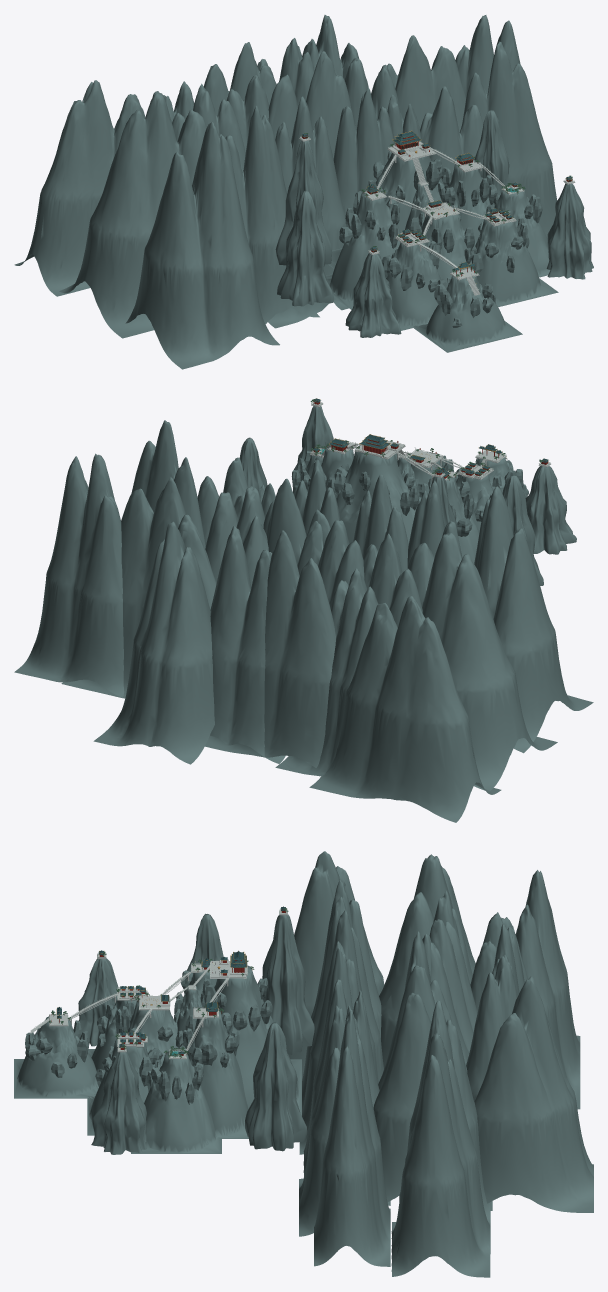
File: sanctuary.glb
3 views of the same model, one above another, from view 1: azimuth 30°, elevation 25°; view 2: azimuth 150°, elevation 25°; view 3: azimuth 270°, elevation 25° (orthographic). The views are drawn at different scales.
Parts seen in each view (by area): view 1: Web · WEB 苍山岩 · fissured slate.001, Web · WEB 青白石 · weathered limestone, Web · WEB 青瓦 · glaze 00, Web · WEB 淡青玉 · pale jade balustrade; view 2: Web · WEB 苍山岩 · fissured slate.001, Web · WEB 青白石 · weathered limestone, Web · WEB 青瓦 · glaze 00; view 3: Web · WEB 苍山岩 · fissured slate.001, Web · WEB 青白石 · weathered limestone, Web · WEB 青瓦 · glaze 00, Web · WEB 淡青玉 · pale jade balustrade.
Part boxes in pixels (left/top/right/bottom): Web · WEB 苍山岩 · fissured slate.001: left=14, top=15, right=593, bottom=369; Web · WEB 青白石 · weathered limestone: left=299, top=137, right=575, bottom=295; Web · WEB 青瓦 · glaze 00: left=301, top=131, right=572, bottom=270; Web · WEB 淡青玉 · pale jade balustrade: left=300, top=136, right=574, bottom=294; Web · WEB 苍山岩 · fissured slate.001: left=14, top=406, right=593, bottom=822; Web · WEB 青白石 · weathered limestone: left=310, top=402, right=550, bottom=481; Web · WEB 青瓦 · glaze 00: left=313, top=398, right=548, bottom=476; Web · WEB 苍山岩 · fissured slate.001: left=14, top=851, right=593, bottom=1277; Web · WEB 青白石 · weathered limestone: left=30, top=910, right=287, bottom=1059; Web · WEB 青瓦 · glaze 00: left=57, top=906, right=285, bottom=1053; Web · WEB 淡青玉 · pale jade balustrade: left=30, top=909, right=284, bottom=1057.
Bounding box in the file's own units: 1945 × 861 × 1977.
